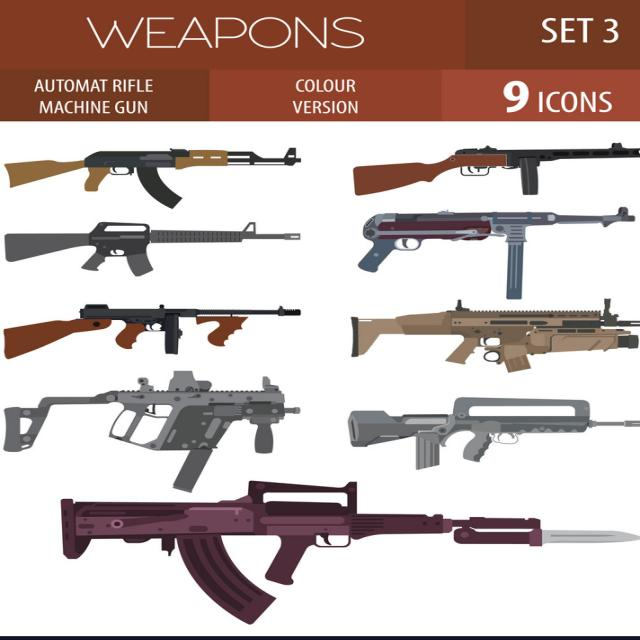Weapon: (62, 481, 638, 623), (4, 372, 298, 491), (352, 299, 640, 372), (349, 397, 640, 469), (5, 149, 300, 208), (5, 222, 299, 276), (354, 143, 640, 194), (497, 225, 502, 232)
